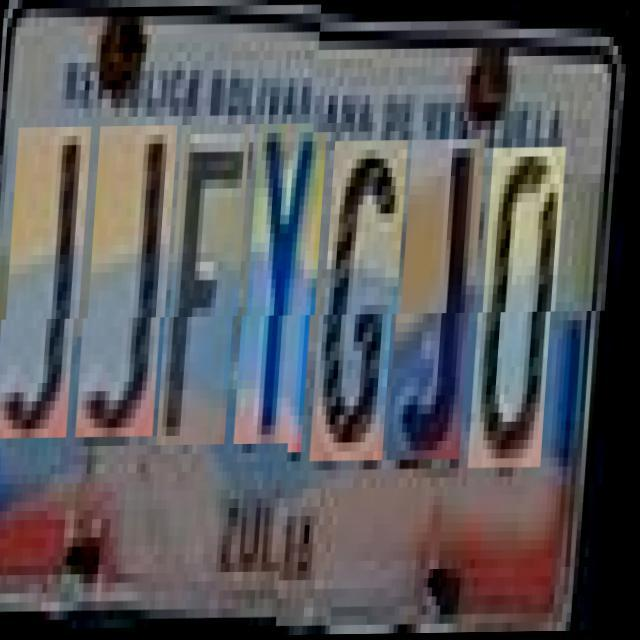0: (479, 148, 568, 470)
F: (166, 134, 252, 455)
G: (321, 142, 410, 462)
J: (85, 135, 178, 447), (398, 140, 487, 462), (3, 136, 92, 448)
Y: (244, 133, 329, 454)
